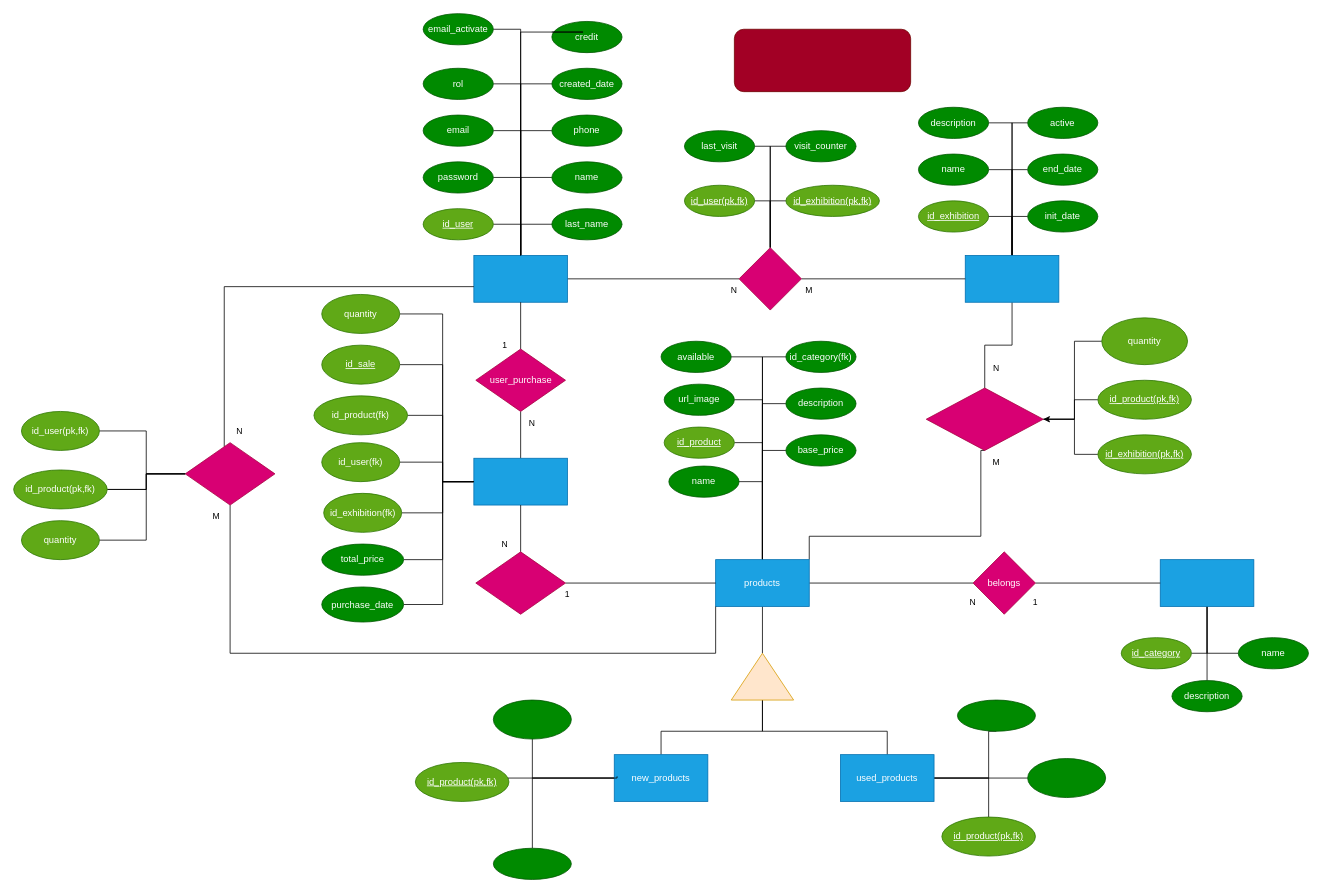
The diagram is 1322 pixels wide and 893 high, and some of its shapes have lost their labels. Here are the shapes that lost their labels. From the top down, the centre of each, then its label:
At point 822,60: "VirtualTechSeller".
At point 520,278: "users".
At point 769,278: "user_visits".
At point 1011,278: "exhibitions".
At point 984,418: "products_exhibitions".
At point 229,473: "cart_items".
At point 520,481: "sales".
At point 520,582: "sales_product".
At point 1206,582: "categories".
At point 762,676: "ISA".
At point 532,719: "release_date".
At point 996,715: "discount".
At point 1066,778: "remark".
At point 532,863: "stock".
